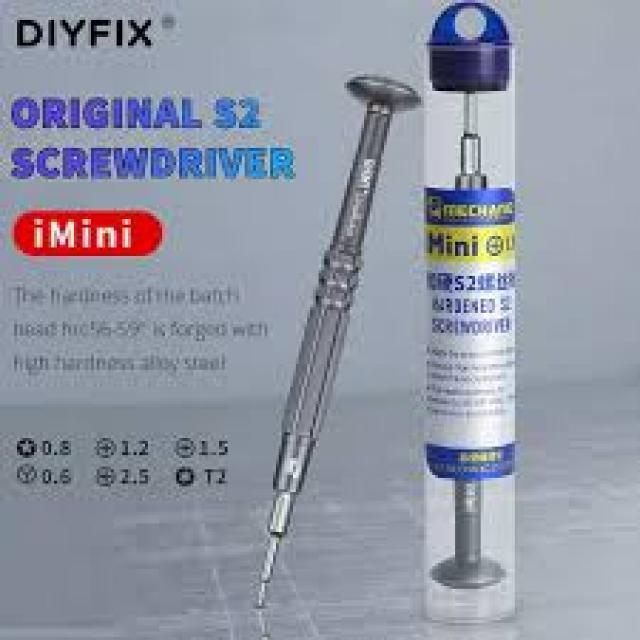screwdriver: (252, 66, 416, 624)
